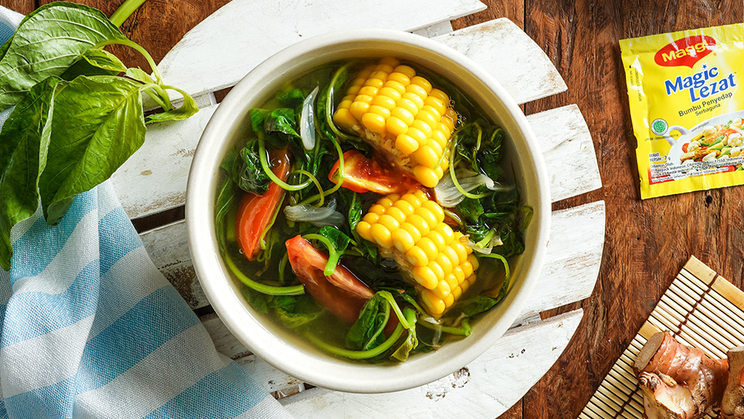Sayur Bayam: (193, 49, 548, 361)
